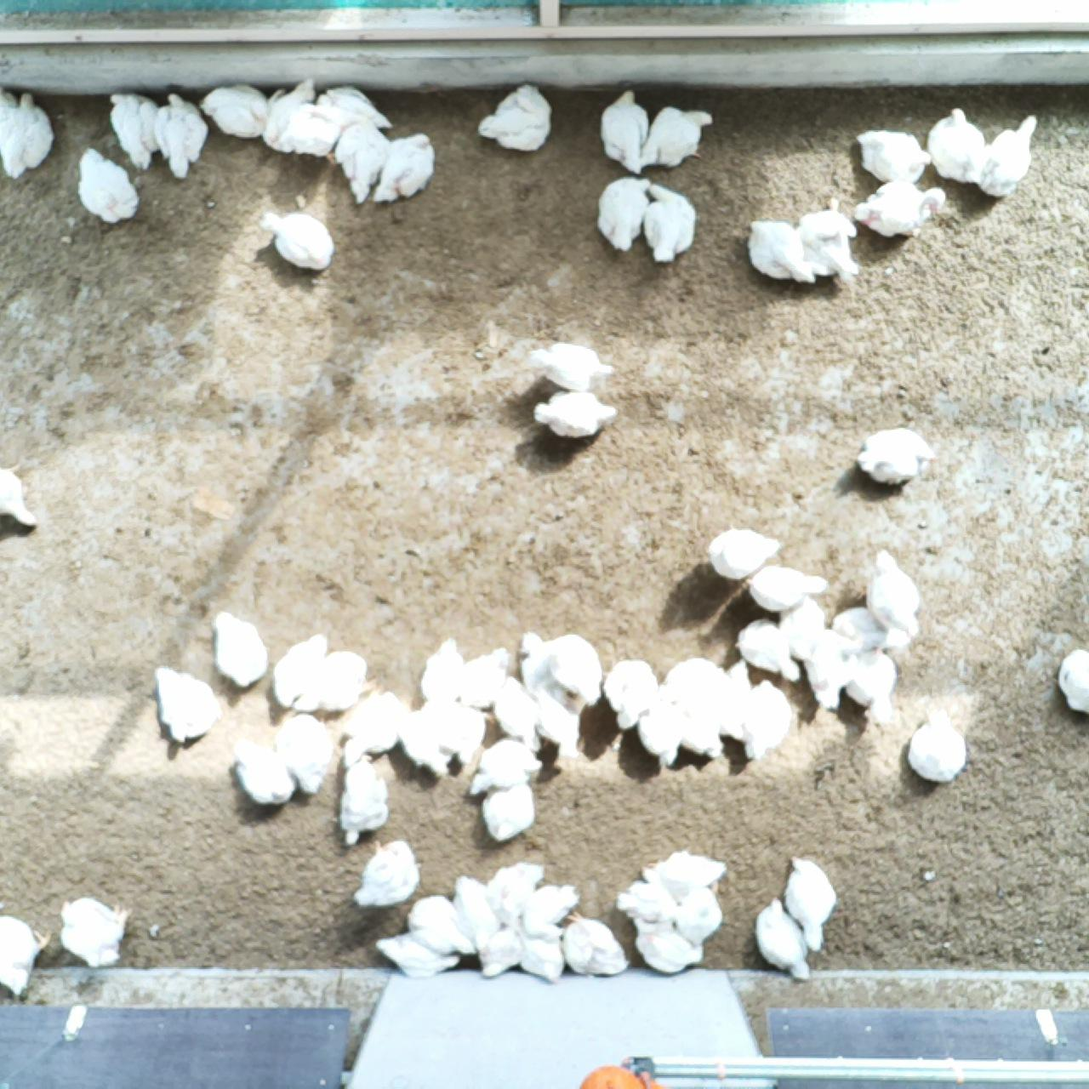chicken: (850, 177, 951, 241), (323, 118, 393, 210), (974, 112, 1045, 200), (333, 749, 394, 850), (150, 662, 222, 747), (473, 81, 555, 155), (797, 195, 862, 287), (782, 851, 839, 955), (351, 835, 425, 915), (0, 87, 59, 187), (56, 894, 132, 971), (864, 545, 924, 642), (339, 683, 407, 768), (72, 143, 140, 227), (150, 88, 210, 183), (227, 734, 300, 811), (751, 895, 814, 984), (272, 713, 337, 799), (257, 206, 335, 277), (923, 105, 989, 188), (368, 130, 438, 208), (207, 607, 272, 691), (905, 703, 970, 786), (559, 906, 630, 981), (638, 103, 716, 170), (105, 87, 164, 175), (748, 215, 820, 287), (467, 734, 547, 798), (405, 890, 479, 958), (270, 632, 332, 713), (595, 87, 650, 178), (389, 705, 452, 784), (732, 616, 803, 686), (418, 696, 486, 769), (532, 386, 619, 443), (845, 643, 902, 730), (802, 626, 860, 711), (371, 930, 462, 984), (737, 677, 794, 763), (594, 172, 653, 255), (527, 339, 616, 394), (260, 76, 321, 156), (629, 916, 706, 979), (643, 182, 700, 267), (648, 846, 729, 905), (285, 90, 347, 167), (706, 524, 783, 586), (542, 630, 602, 709), (854, 128, 934, 187), (741, 560, 830, 613), (483, 859, 545, 935), (602, 657, 661, 734), (492, 673, 546, 757), (451, 872, 506, 954), (198, 79, 269, 142), (637, 681, 688, 768), (0, 914, 54, 995), (530, 680, 584, 759), (828, 603, 912, 653), (477, 781, 540, 847), (319, 647, 379, 715), (613, 862, 677, 925), (775, 593, 828, 668), (514, 629, 560, 710), (860, 423, 941, 468), (717, 654, 756, 746), (418, 635, 468, 706), (521, 882, 581, 941), (326, 81, 395, 131), (673, 881, 725, 945), (462, 643, 513, 708), (664, 657, 731, 704), (857, 446, 925, 492), (677, 700, 727, 762), (0, 460, 43, 530), (474, 921, 524, 980), (519, 928, 568, 988), (1052, 641, 1089, 717)
